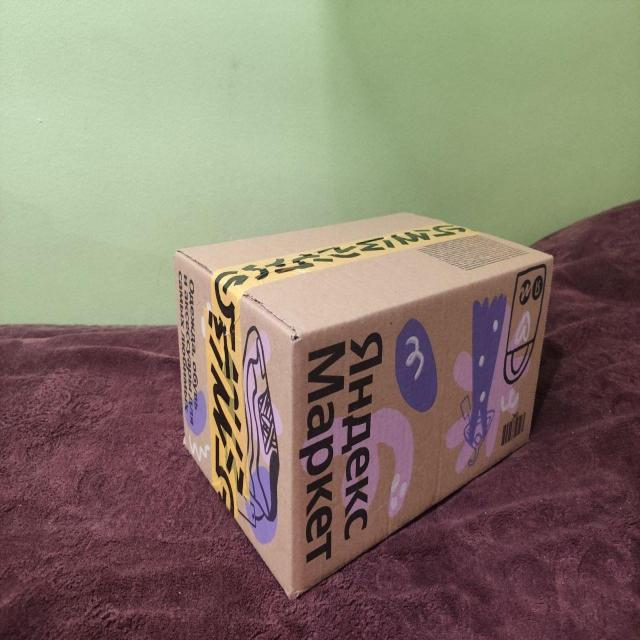box: (172, 208, 554, 600)
